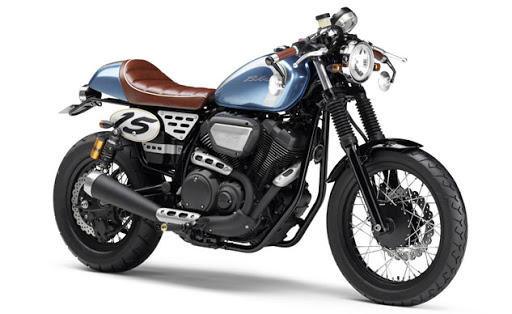motorcycle: (52, 9, 460, 309)
